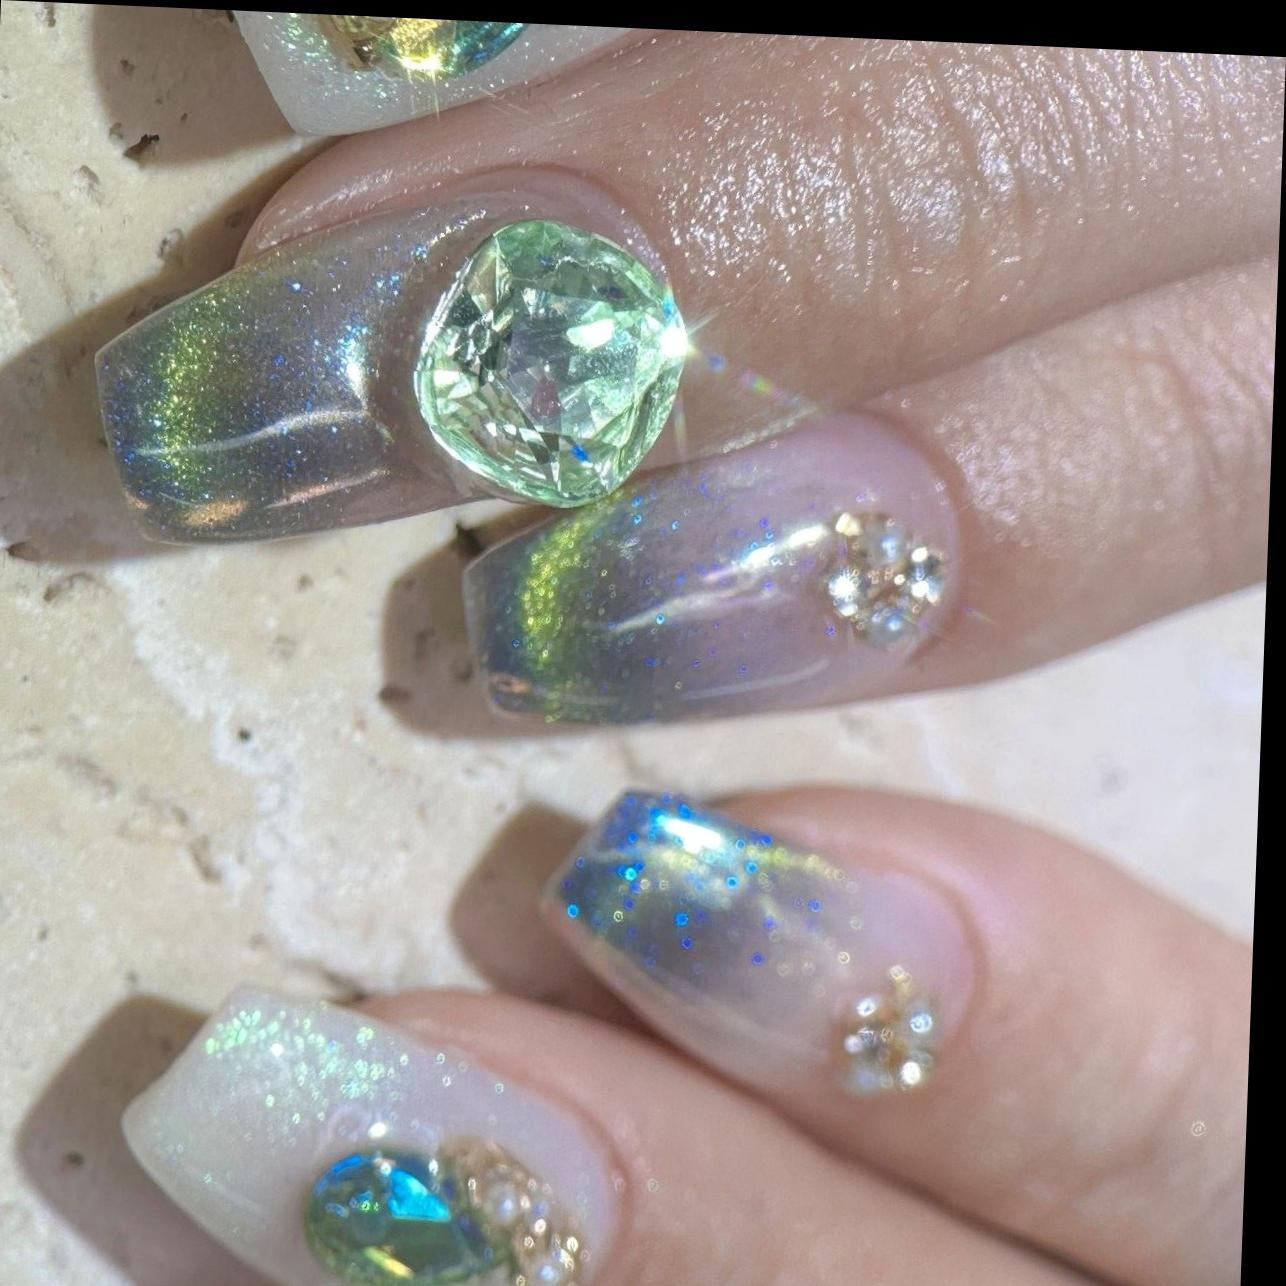nail: (85, 5, 1286, 598), (453, 197, 1279, 760), (84, 152, 698, 570), (113, 979, 634, 1286), (530, 783, 990, 1113), (211, 9, 762, 158)
